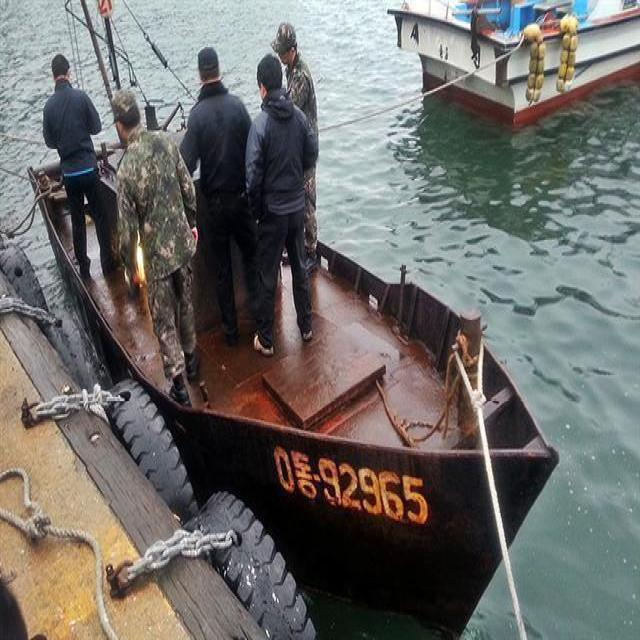Ship: (10, 123, 564, 640)
